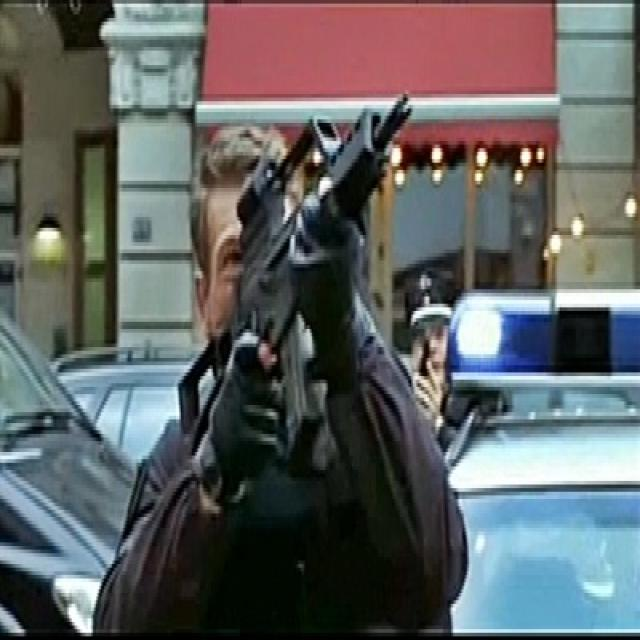rifle: (178, 75, 416, 483)
